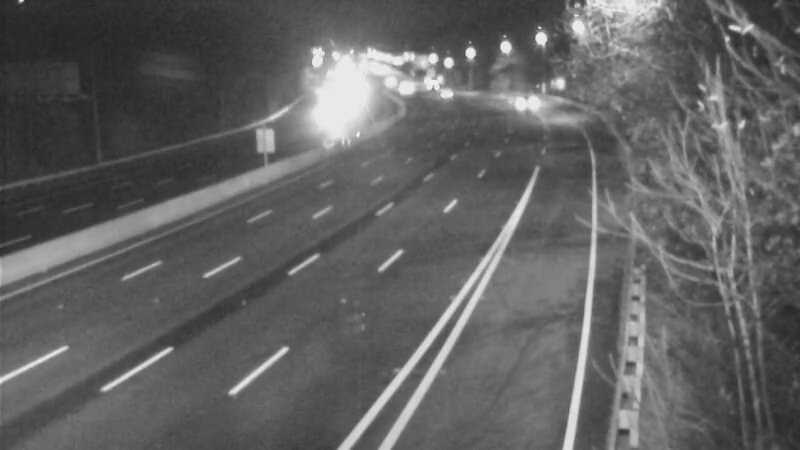vehicle: (399, 60, 449, 110), (360, 57, 410, 107), (382, 61, 432, 111), (420, 68, 470, 118), (495, 76, 545, 126), (298, 79, 348, 129)
